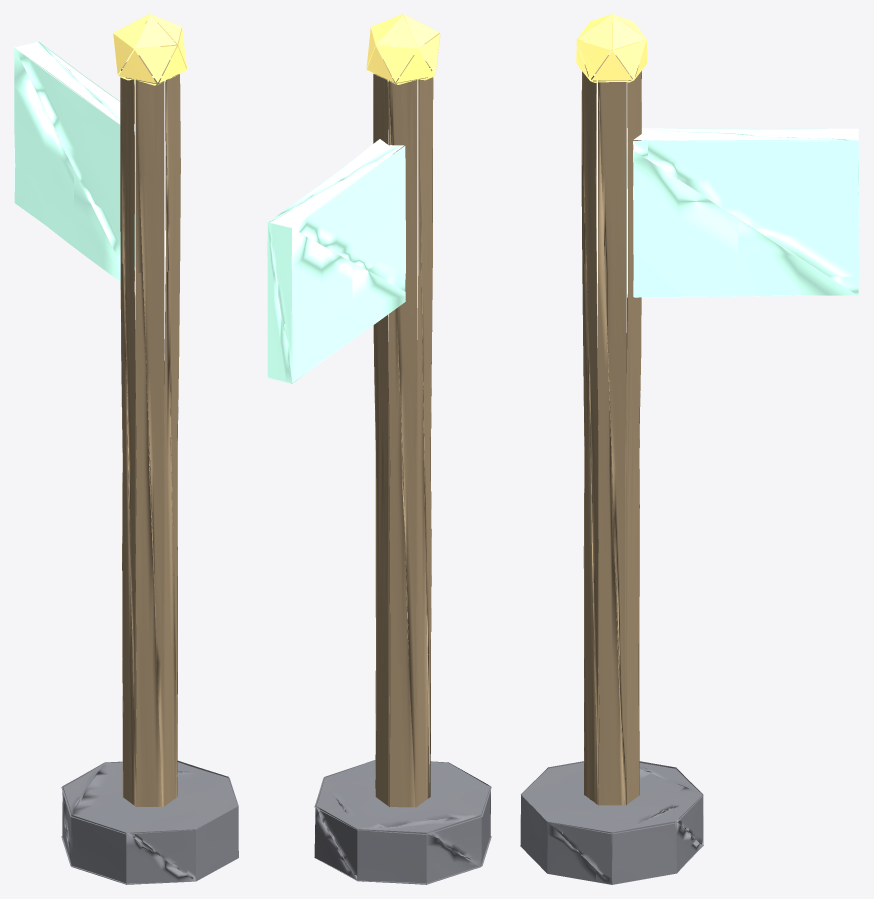
Rendered from flag.glb.
3 renders of one model, left to right at view 1: azimuth 30°, elevation 25°; view 2: azimuth 150°, elevation 25°; view 3: azimuth 270°, elevation 25°, orthographic.
Parts seen in each view (by area): view 1: FlagPole; view 2: FlagPole; view 3: FlagPole.
Part boxes in pixels (box(x1,y1,x2,y2)): FlagPole: box(14, 14, 238, 884); FlagPole: box(267, 14, 491, 884); FlagPole: box(520, 14, 859, 884).
Bounding box in the file's own units: 0.32 × 1.6 × 0.5914.
